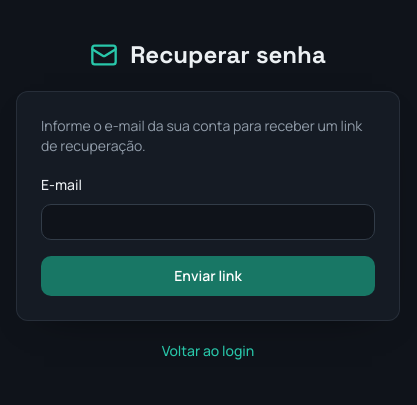
PasswordRecovery account self-service › does not expose credential errors or user-existence details
This screenshot has width=417, height=405.
In the field labelled "E-mail": (208, 222) [41, 204, 375, 240], type "unknown@example.com"
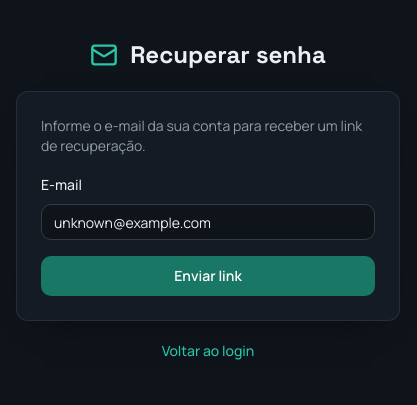
Click the button "Enviar link": click(208, 276) [41, 256, 375, 296]
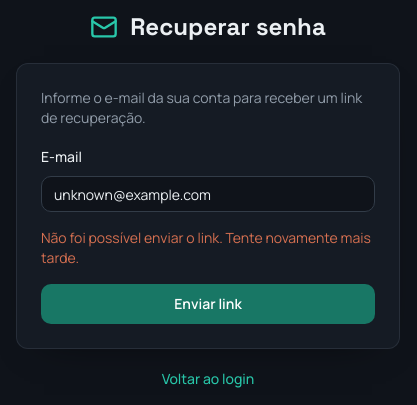
Expected: the message shows "Não foi possível enviar o link.", [41, 228, 371, 267]
